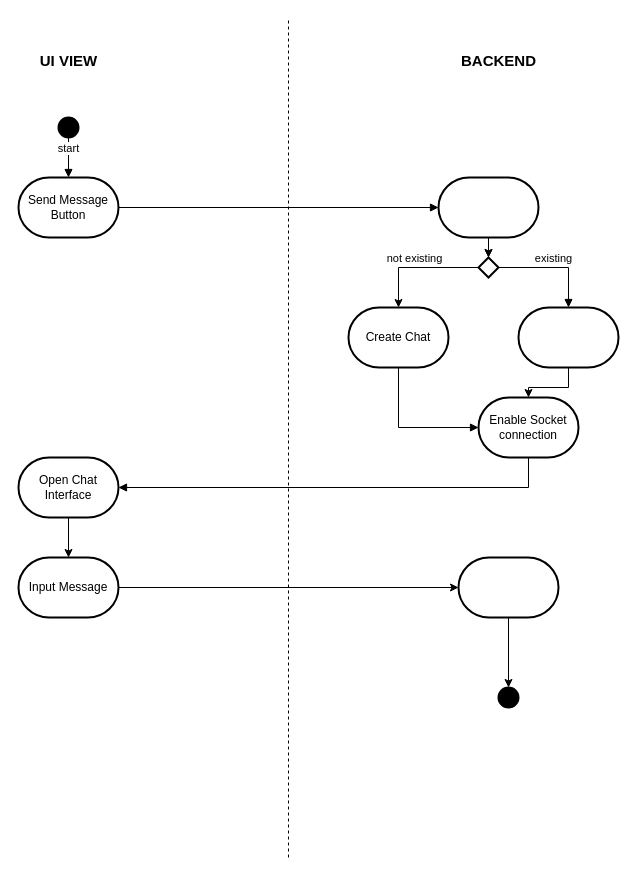
This 636x876 diagram has some shape labels left out. Here are the shapes that lost their labels. From the top down, the centre of each, then its label:
At pixel 488 207: "Fetch Chat".
At pixel 568 337: "Use existing chat".
At pixel 508 587: "Insert Message".
